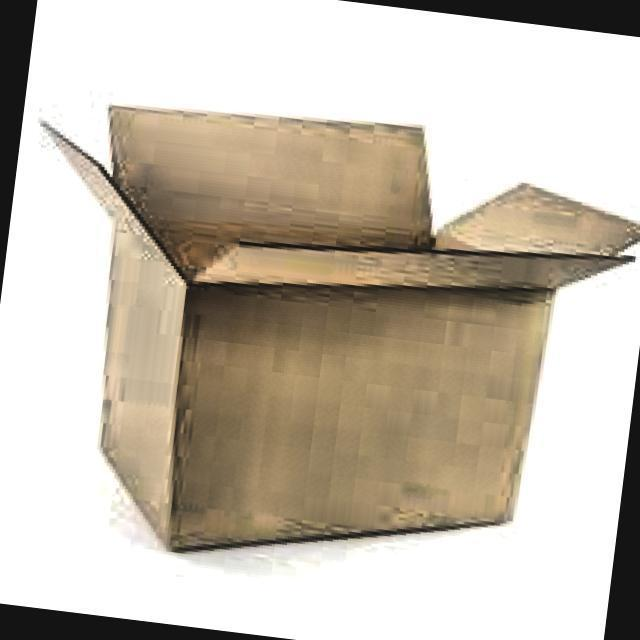cardboard: (0, 75, 640, 605)
